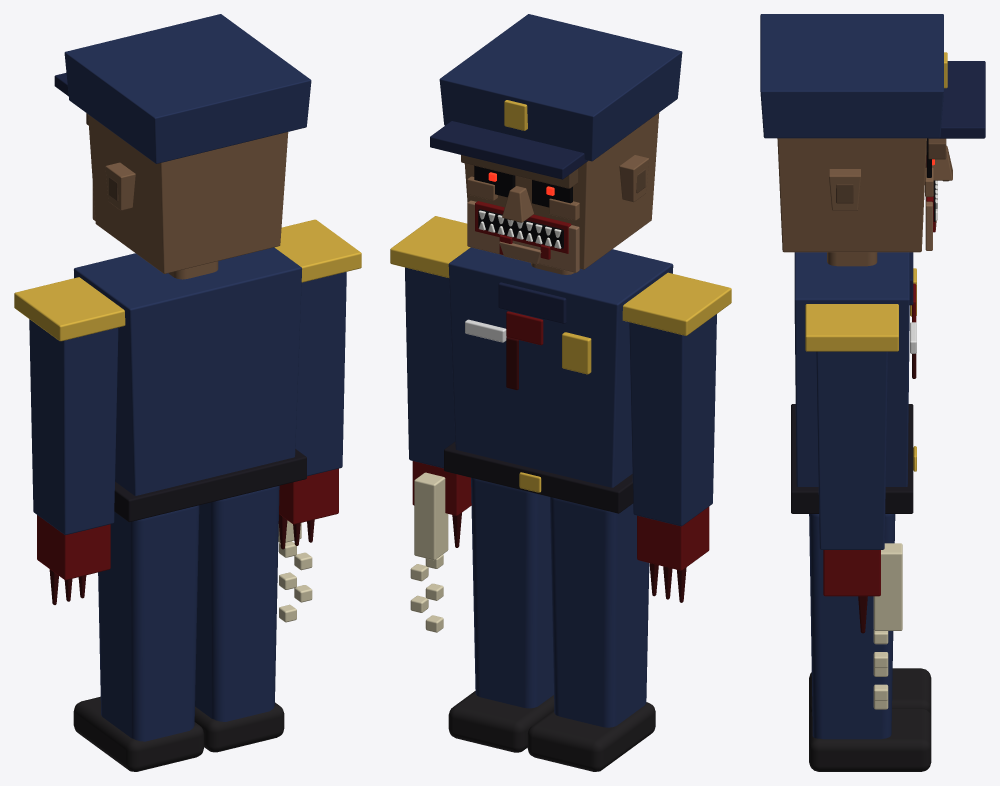
Rendered from guard_night.glb.
3 views of the same model, side by side, from view 1: azimuth 30°, elevation 25°; view 2: azimuth 150°, elevation 25°; view 3: azimuth 270°, elevation 25° (orthographic). The views are drawn at different scales.
Visible parts, largest first — view 1: Head, Torso, LegL, ArmL, LegR, ArmR; view 2: Head, Torso, LegL, ArmL, LegR, ArmR; view 3: Head, ArmR, LegR, Torso, LegL, NeckMesh.
Boxes of the visible parts, x1,y1,x2,y2 form: Head: (54, 14, 311, 273); Torso: (74, 247, 306, 522); LegL: (73, 505, 204, 771); ArmL: (14, 277, 125, 604); LegR: (194, 485, 284, 752); ArmR: (274, 219, 361, 622); Head: (430, 14, 682, 272); Torso: (444, 247, 673, 513); LegL: (527, 497, 655, 771); ArmL: (622, 272, 731, 602); LegR: (448, 477, 554, 752); ArmR: (390, 216, 471, 632); Head: (760, 14, 985, 252); ArmR: (805, 304, 902, 709); LegR: (809, 514, 931, 771); Torso: (791, 252, 916, 513); LegL: (809, 668, 931, 716); NeckMesh: (827, 252, 877, 266).
Bounding box in the file's own units: 0.98 × 2.1 × 0.6246.
